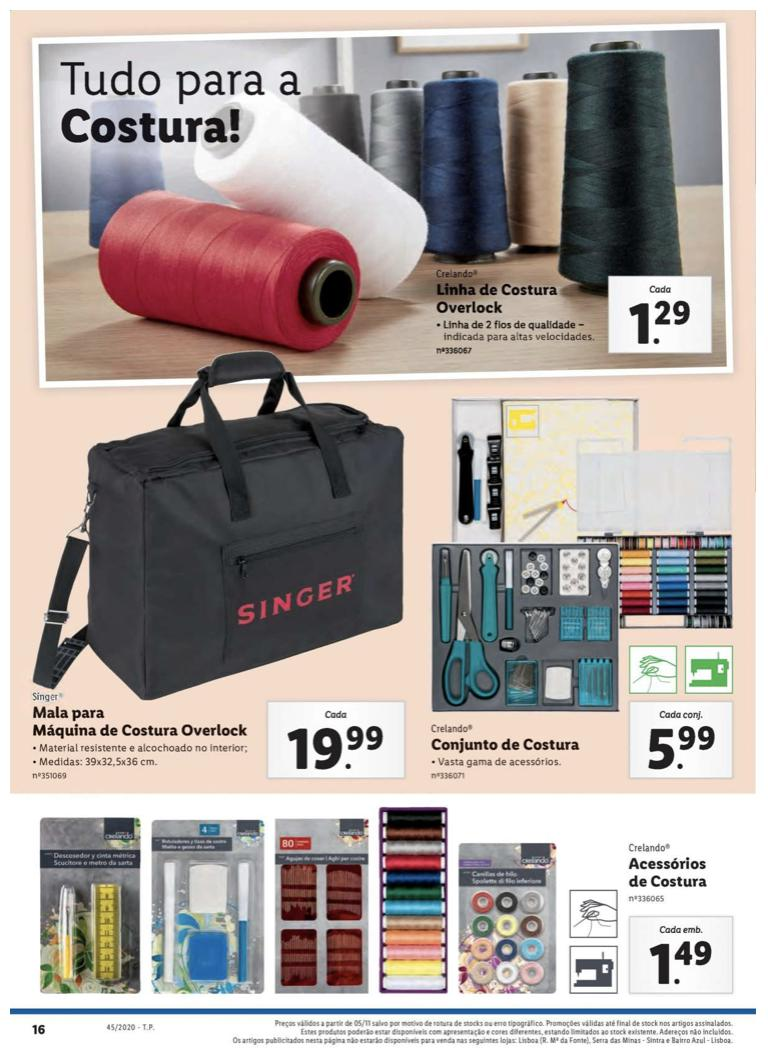name: (28, 703, 255, 741), (431, 278, 567, 316), (626, 853, 715, 895), (430, 735, 586, 758)
price: (278, 720, 390, 778), (640, 721, 724, 775), (624, 296, 703, 350), (644, 937, 713, 997)
product: (52, 43, 726, 367), (22, 397, 410, 783), (21, 804, 749, 1000), (423, 393, 756, 789)
